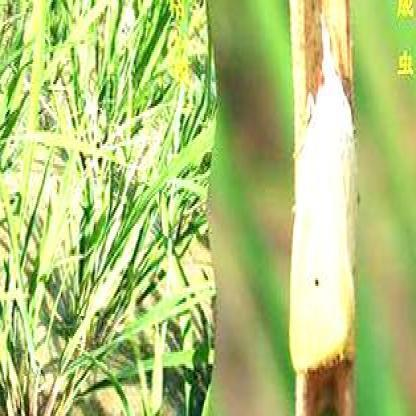stem-borer: (287, 13, 361, 376)
